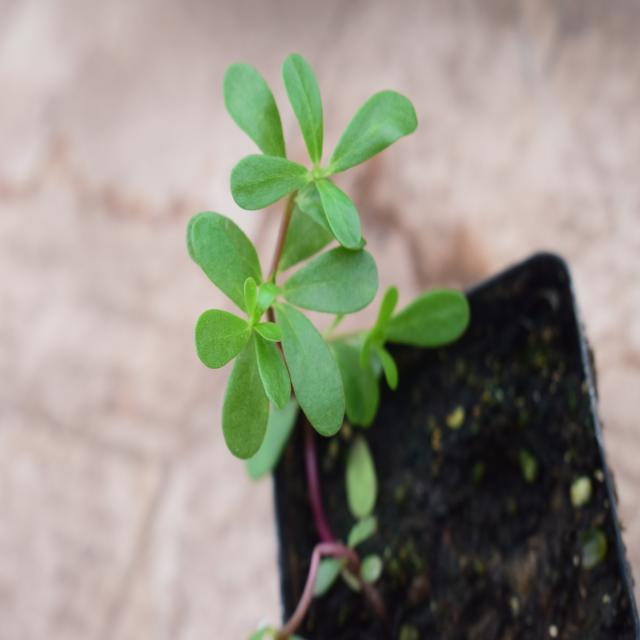purslane: (162, 42, 474, 464)
